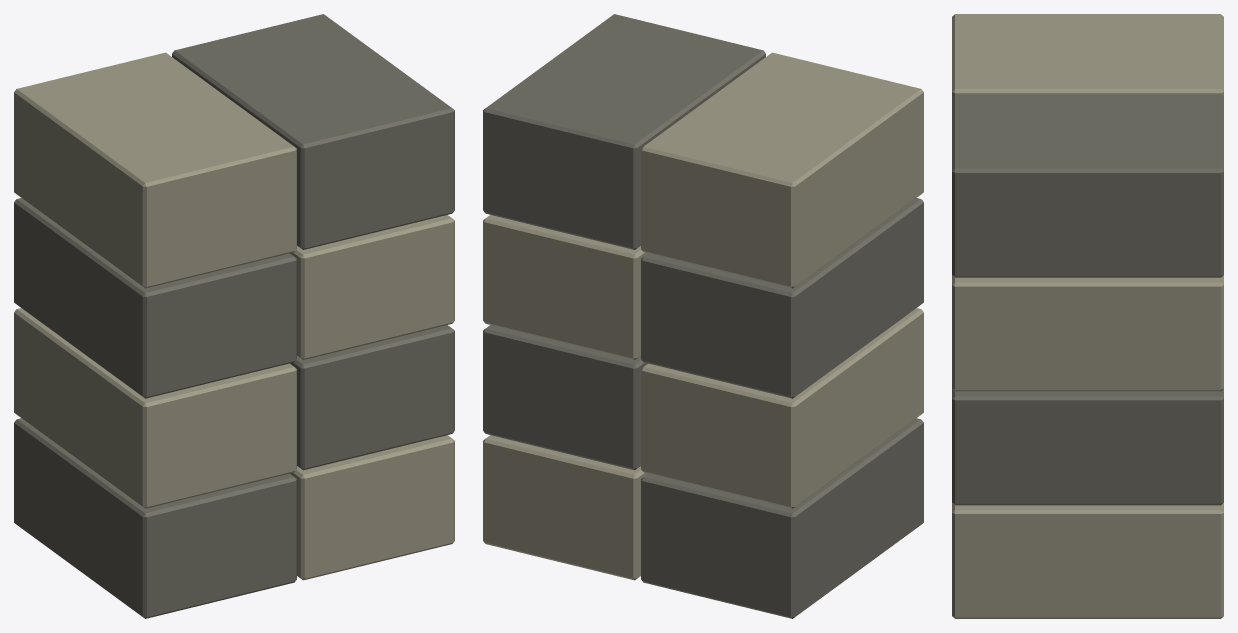
Rendered from chimney_section.glb.
3 views of the same model, side by side, from view 1: azimuth 30°, elevation 25°; view 2: azimuth 150°, elevation 25°; view 3: azimuth 270°, elevation 25° (orthographic). The views are drawn at different scales.
Visible parts, largest first — view 1: chimney_section__body__stone_dark, chimney_section__body__stone; view 2: chimney_section__body__stone_dark, chimney_section__body__stone; view 3: chimney_section__body__stone, chimney_section__body__stone_dark.
Boxes of the visible parts, bbox=[...] form: chimney_section__body__stone_dark: bbox=[14, 14, 454, 618]; chimney_section__body__stone: bbox=[14, 52, 454, 580]; chimney_section__body__stone_dark: bbox=[483, 14, 923, 618]; chimney_section__body__stone: bbox=[483, 52, 923, 580]; chimney_section__body__stone: bbox=[952, 14, 1223, 618]; chimney_section__body__stone_dark: bbox=[952, 93, 1223, 505].
Bounding box in the file's own units: 0.712 × 0.95 × 0.52.
